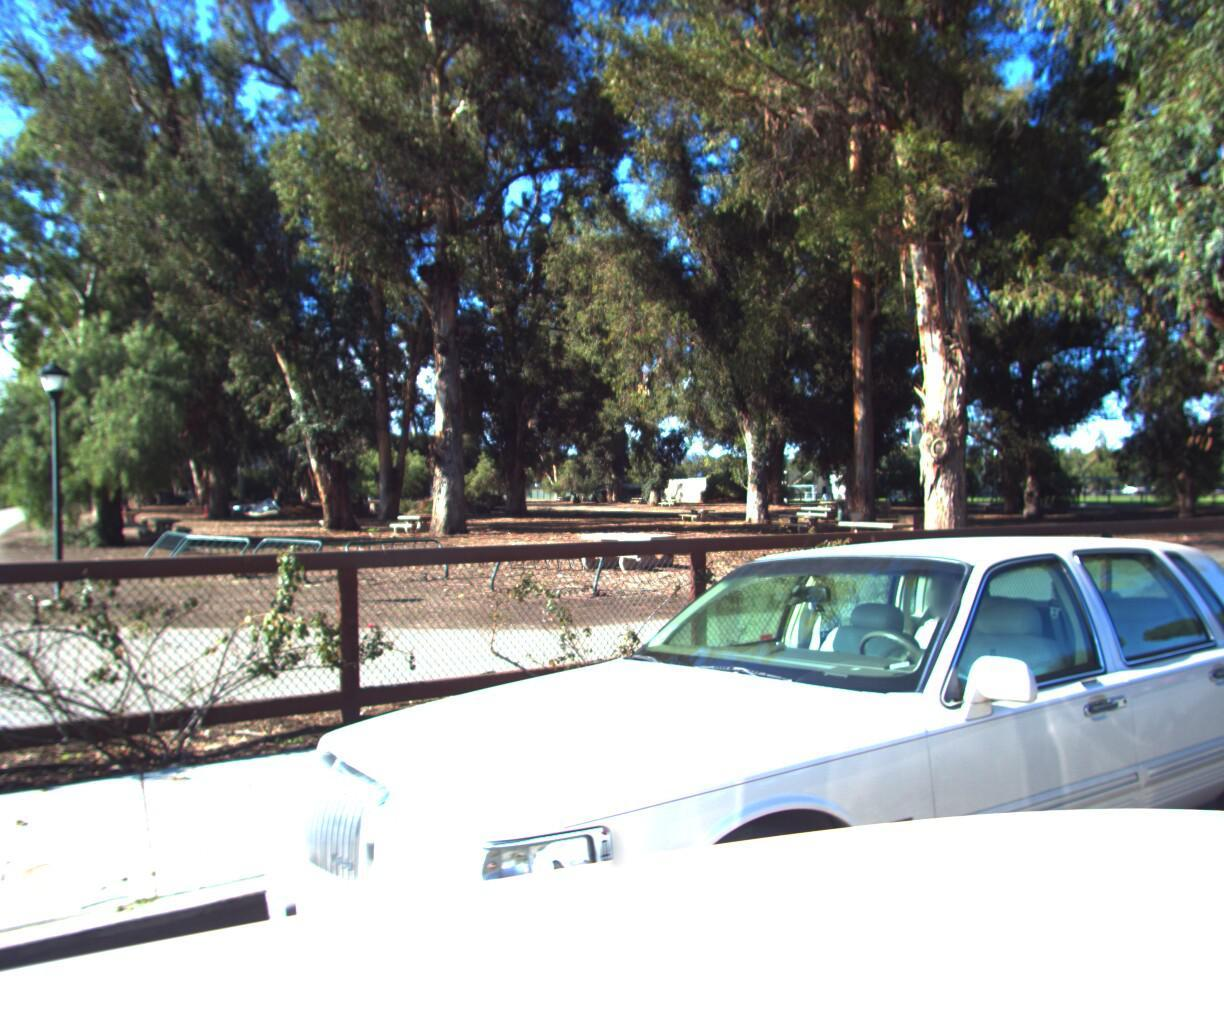car: (221, 516, 1224, 1024), (1223, 448, 1224, 774)
